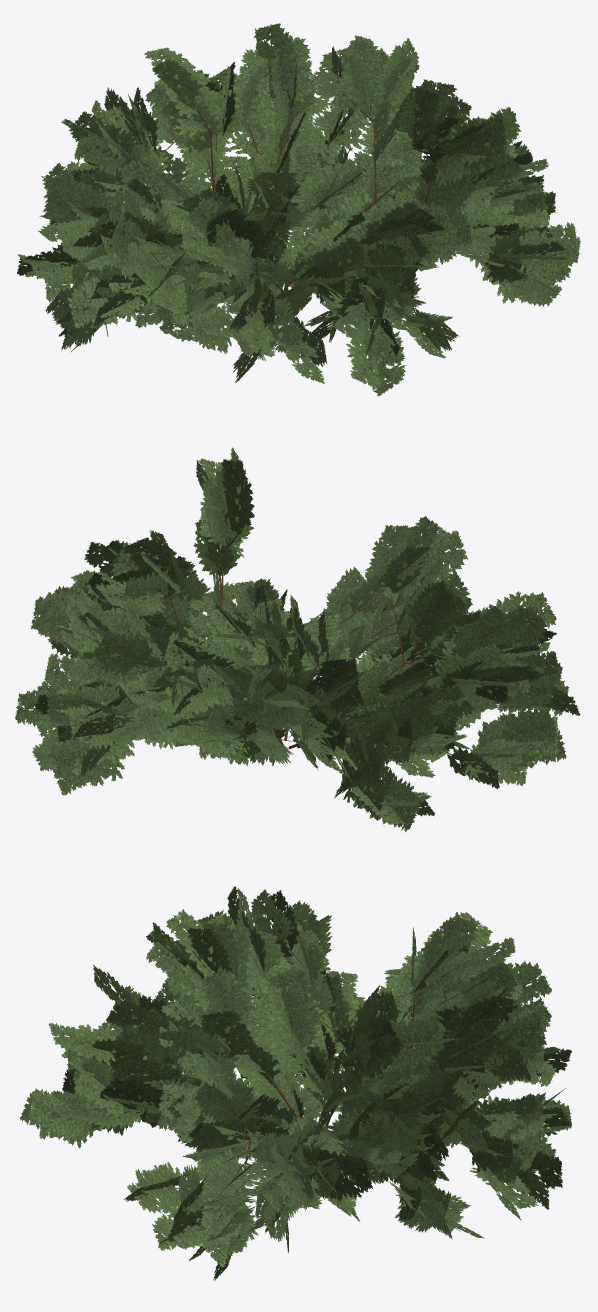
The model's file is juniper_low_v02_LOD1.glb.
3 views of the same model, one above another, from view 1: azimuth 30°, elevation 25°; view 2: azimuth 150°, elevation 25°; view 3: azimuth 270°, elevation 25° (orthographic). The views are drawn at different scales.
Visible parts, largest first — view 1: juniper_low_v02_LOD1; view 2: juniper_low_v02_LOD1; view 3: juniper_low_v02_LOD1.
Part boxes in pixels (x1,y1,x2,y2): juniper_low_v02_LOD1: (17, 23, 580, 396); juniper_low_v02_LOD1: (15, 447, 580, 832); juniper_low_v02_LOD1: (20, 886, 571, 1281).
Size of the model in its own units: 2.02 by 1 by 1.83.
Materials: 2 (2 with a texture image).
